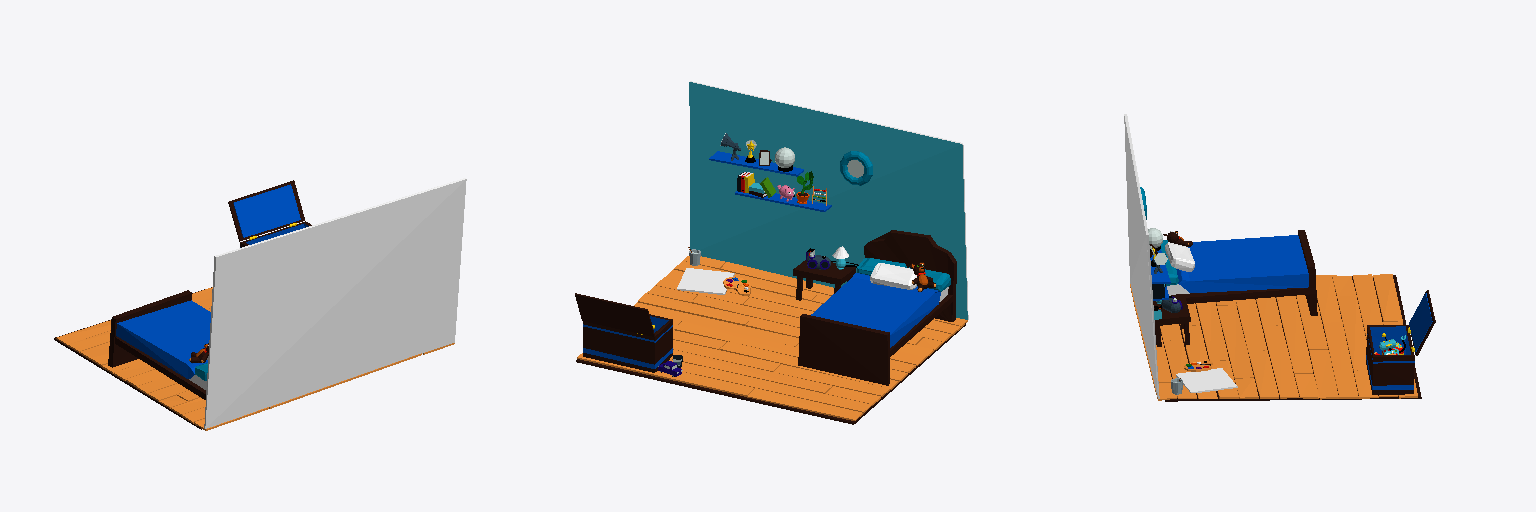
The picture shows the model from 3 angles: view 1: azimuth 30°, elevation 25°; view 2: azimuth 150°, elevation 25°; view 3: azimuth 270°, elevation 25°; orthographic projection.
Visible parts, largest first — view 1: group[number redacted], group[number redacted], group[number redacted], group[number redacted], group[number redacted], group[number redacted], group[number redacted]; view 2: group[number redacted], group[number redacted], group[number redacted], group[number redacted], group[number redacted], group[number redacted], group[number redacted], group[number redacted], group[number redacted], group[number redacted], group[number redacted], group[number redacted] (+17 smaller); view 3: group[number redacted], group[number redacted], group[number redacted], group[number redacted], group[number redacted], group[number redacted], group[number redacted], group[number redacted], group[number redacted], group[number redacted], group[number redacted], group[number redacted] (+13 smaller).
Part boxes in pixels (x1,y1,x2,y2): group[number redacted]: (204,178,466,428); group[number redacted]: (116,300,210,378); group[number redacted]: (233,184,300,237); group[number redacted]: (108,290,205,399); group[number redacted]: (228,180,304,241); group[number redacted]: (56,320,110,345); group[number redacted]: (68,298,211,352); group[number redacted]: (689,81,968,319); group[number redacted]: (798,230,956,385); group[number redacted]: (811,273,940,347); group[number redacted]: (583,314,672,372); group[number redacted]: (575,293,654,336); group[number redacted]: (694,366,871,413); group[number redacted]: (670,350,832,393); group[number redacted]: (634,302,798,346); group[number redacted]: (576,323,965,424); group[number redacted]: (675,321,798,357); group[number redacted]: (747,388,862,420); group[number redacted]: (638,293,752,325); group[number redacted]: (1176,235,1308,292); group[number redacted]: (1124,114,1159,398); group[number redacted]: (1366,325,1414,394); group[number redacted]: (1171,230,1317,315); group[number redacted]: (1323,322,1358,398); group[number redacted]: (1277,300,1312,373); group[number redacted]: (1217,305,1253,378); group[number redacted]: (1263,325,1299,398); group[number redacted]: (1337,295,1366,370); group[number redacted]: (1196,302,1228,360); group[number redacted]: (1160,275,1421,401); group[number redacted]: (1353,274,1382,338).
Bounding box in the file's own units: 6.23 × 3.76 × 5.83.